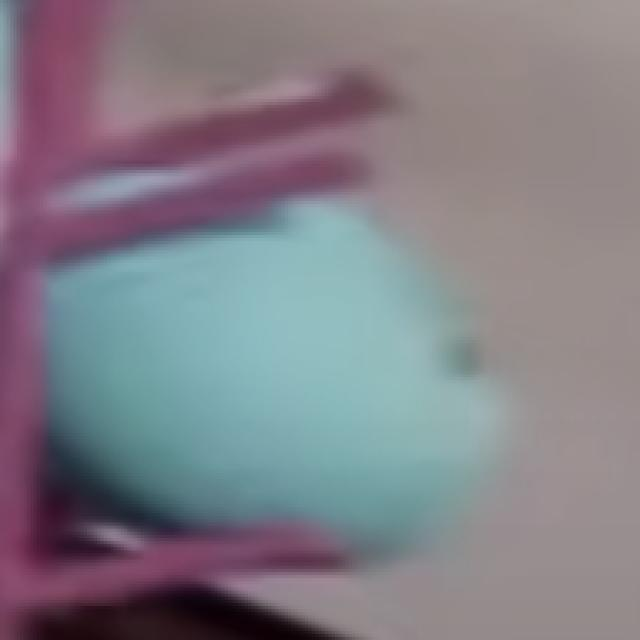Algae: (41, 170, 499, 567)
Reef: (38, 149, 366, 261), (76, 66, 392, 176), (35, 523, 340, 617)
